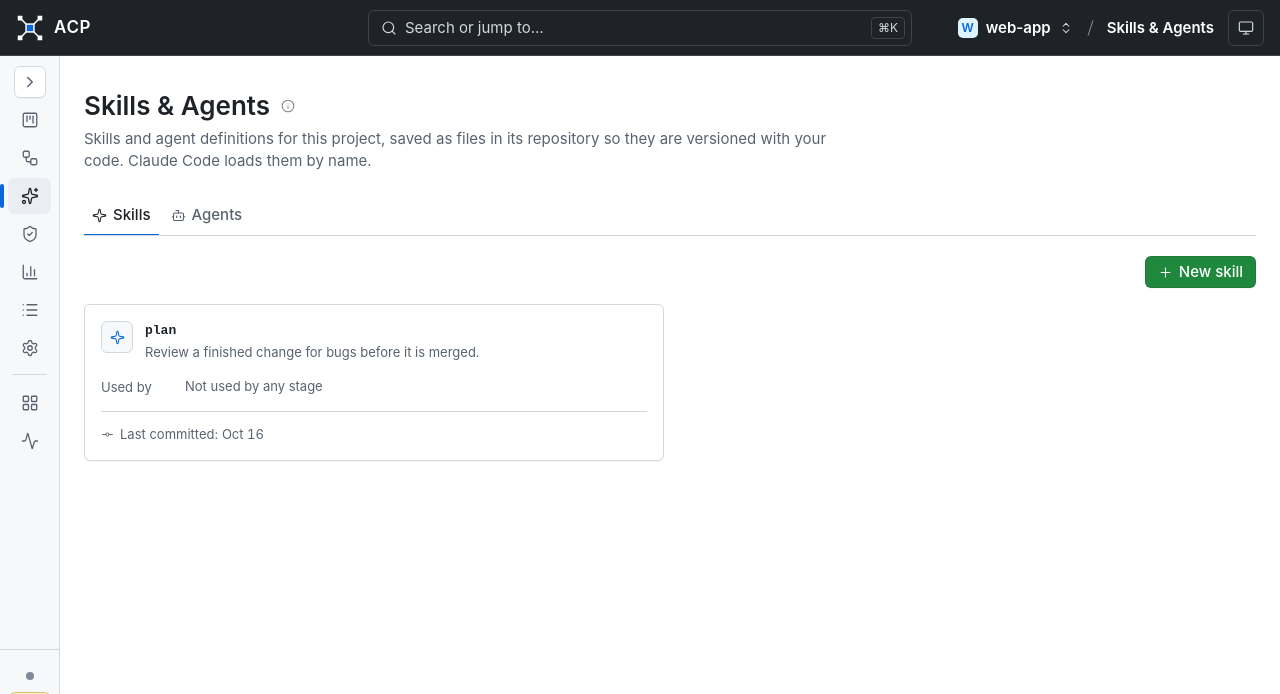
it: Skills in the shell (#/p/:projectId/skills) › opens from the sidebar address, and a skill gets its own address
This screenshot has width=1280, height=694.
Click the button with aria-label "Open skill plan": (161, 331) [145, 321, 176, 341]
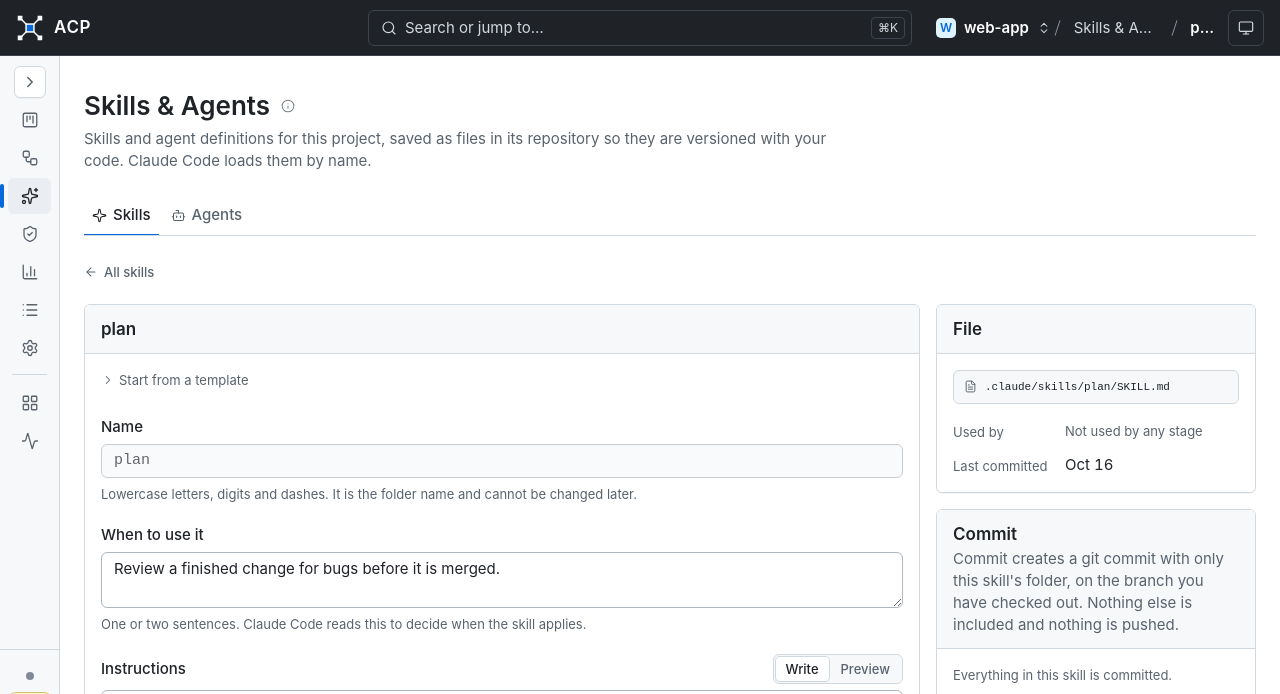
Click the button "All skills": (119, 272) [76, 258, 162, 286]
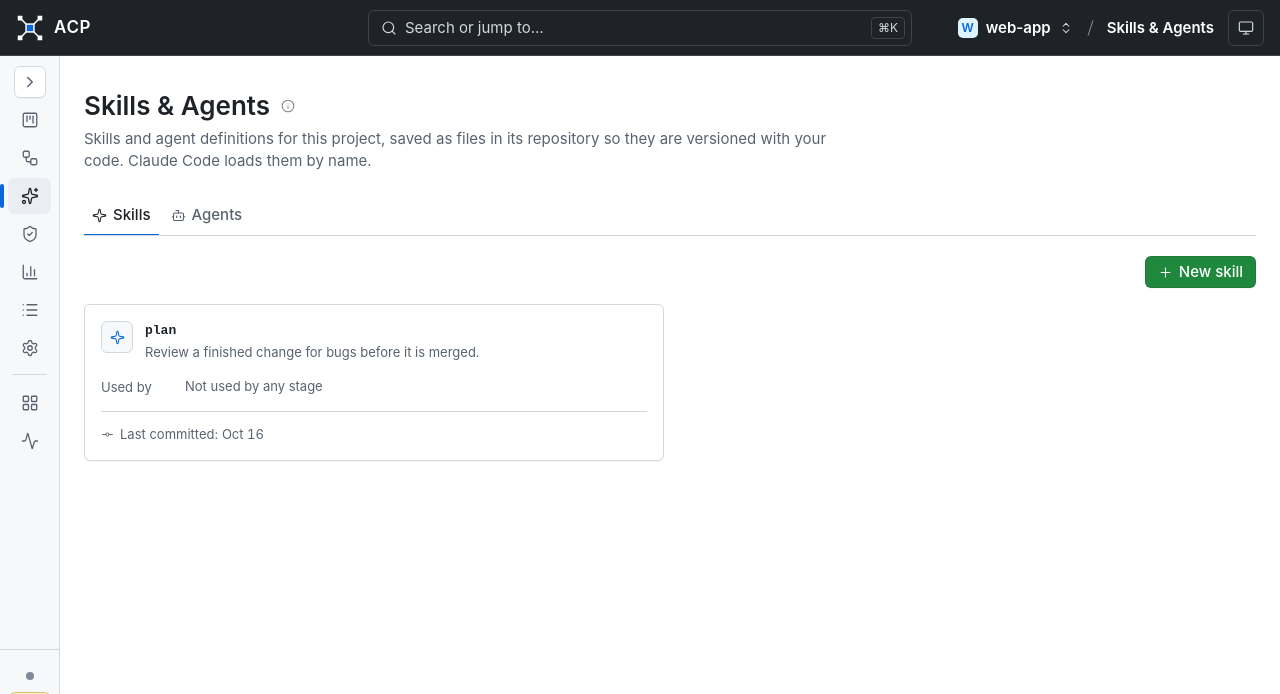
Expected: the list item with test id "skill-card-plan" is shown, [84, 304, 664, 461]
